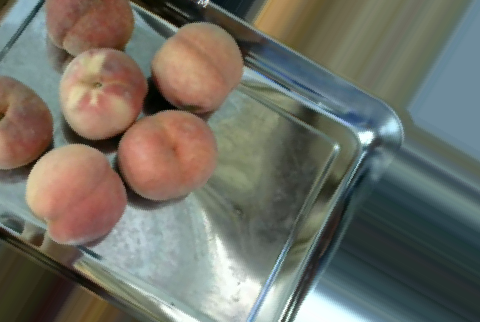Peach: (24, 145, 127, 244), (121, 109, 218, 202), (56, 47, 147, 140), (152, 21, 244, 112), (41, 0, 138, 55), (0, 73, 51, 173)
